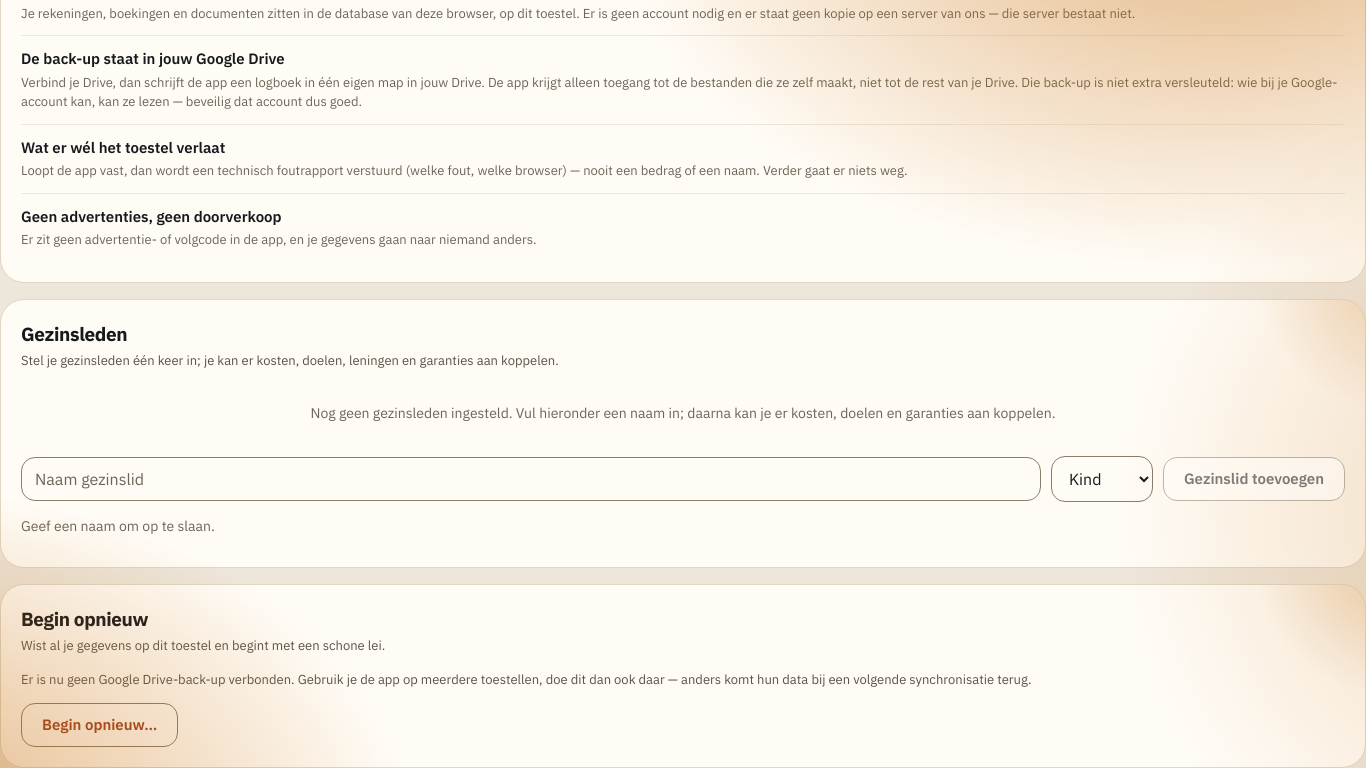
Test: InstellingenSectie — begin opnieuw › wist alles na bevestigen en meldt de schone lei
The image size is (1366, 768).
(page scrolled)
Click the button "Begin opnieuw…". click: coordinates (100, 725)
box: [21,703,178,747]
(page scrolled)
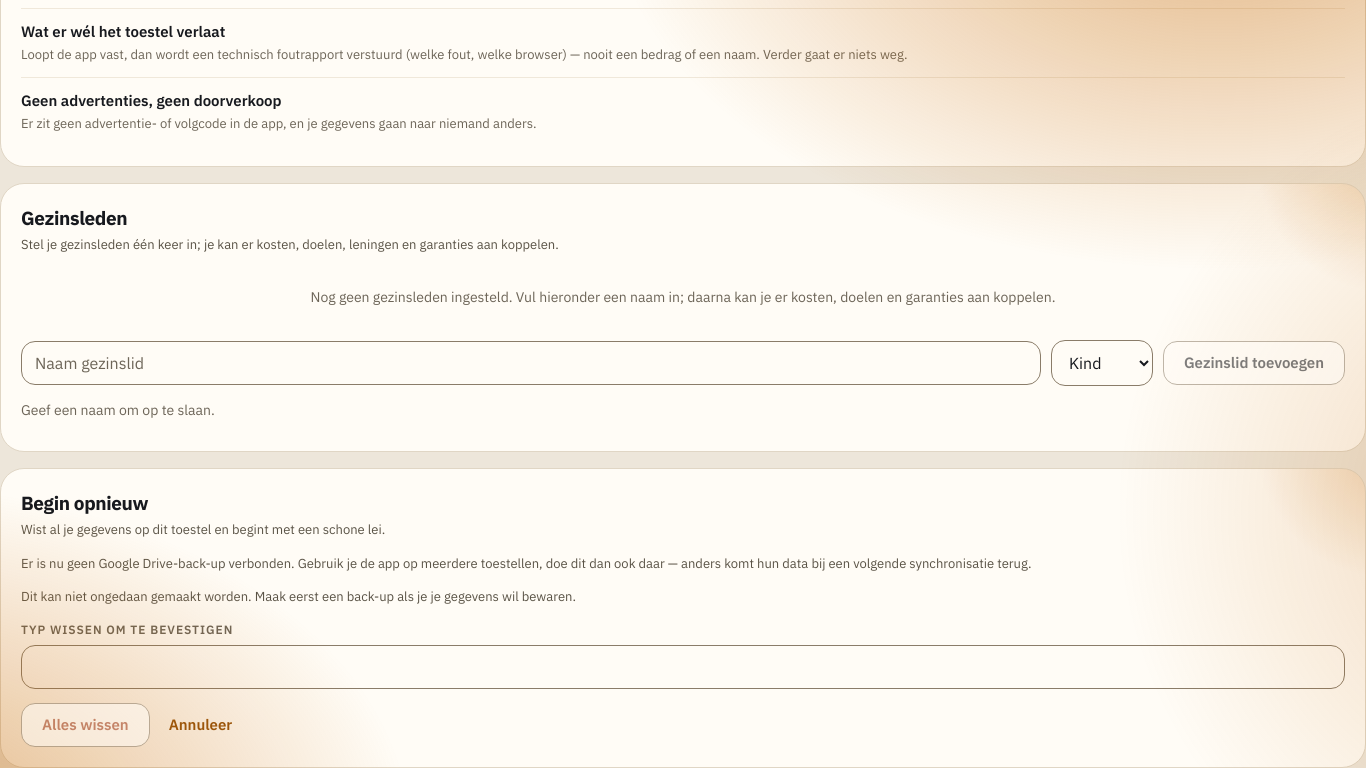
Type "WISSEN" into the field labelled "Typ WISSEN om te bevestigen". click: coordinates (683, 667)
box: [21,645,1345,689]
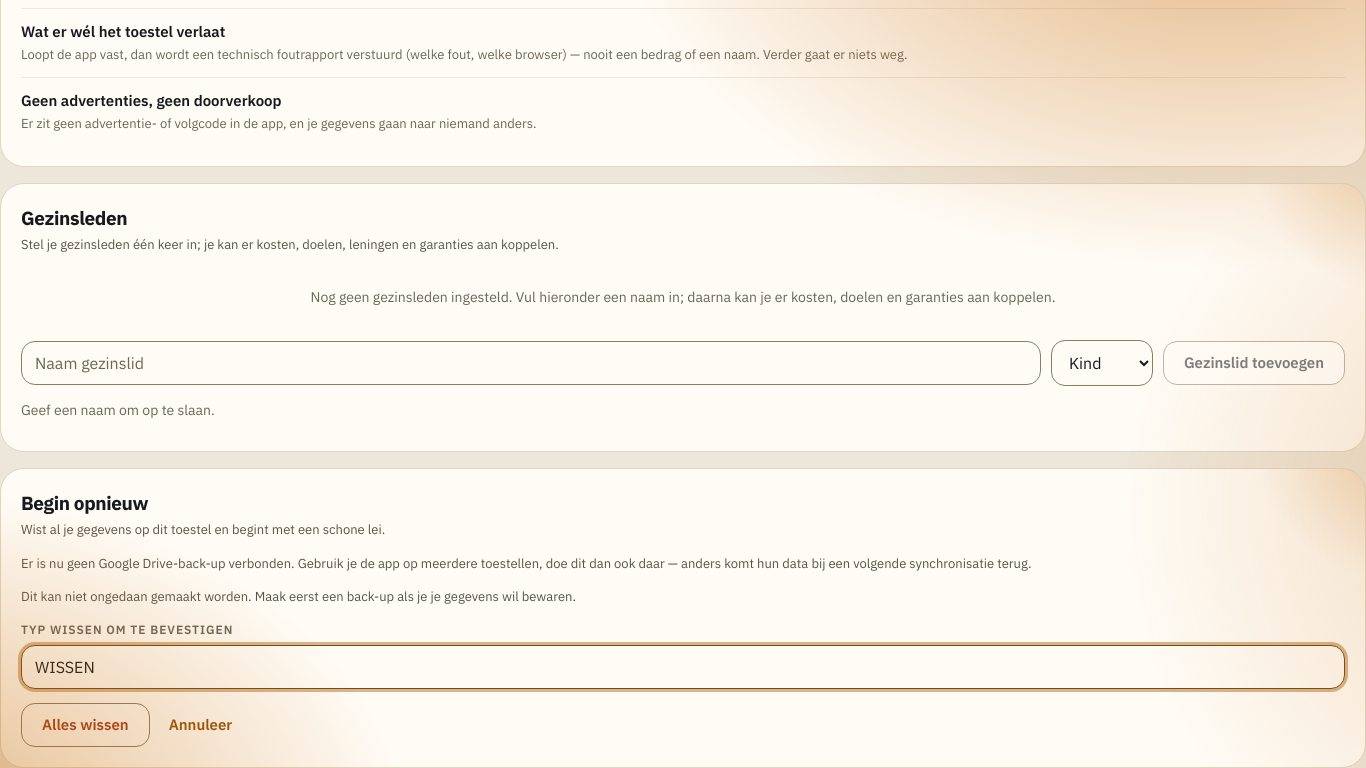
Click the button "Alles wissen". click: coordinates (85, 725)
box: [21,703,150,747]
(page scrolled)
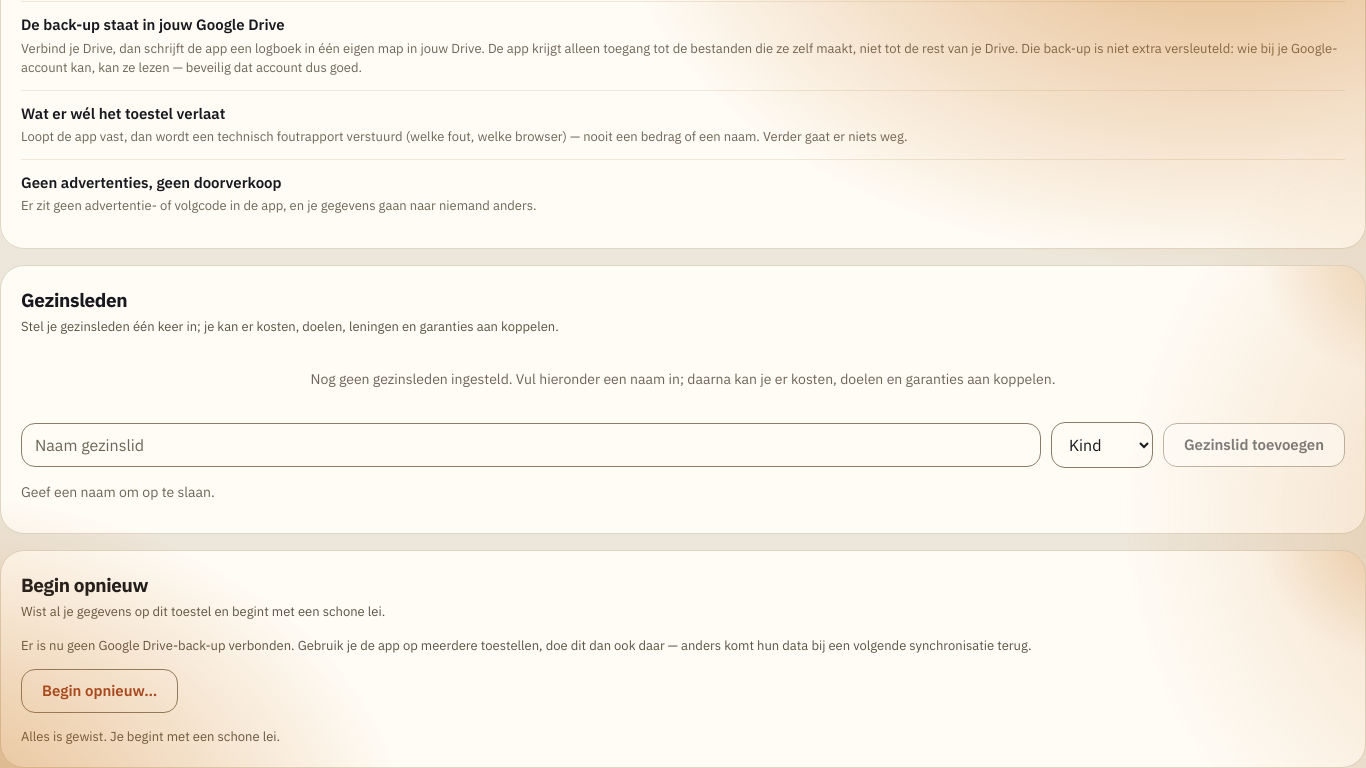
expect the text "Alles is gewist. Je begint met een schone lei." is shown: met, box [21,728,280,745]
expect the button "Alles wissen" is gone: met
expect the button "Begin opnieuw…" is shown: met, box [21,669,178,713]
